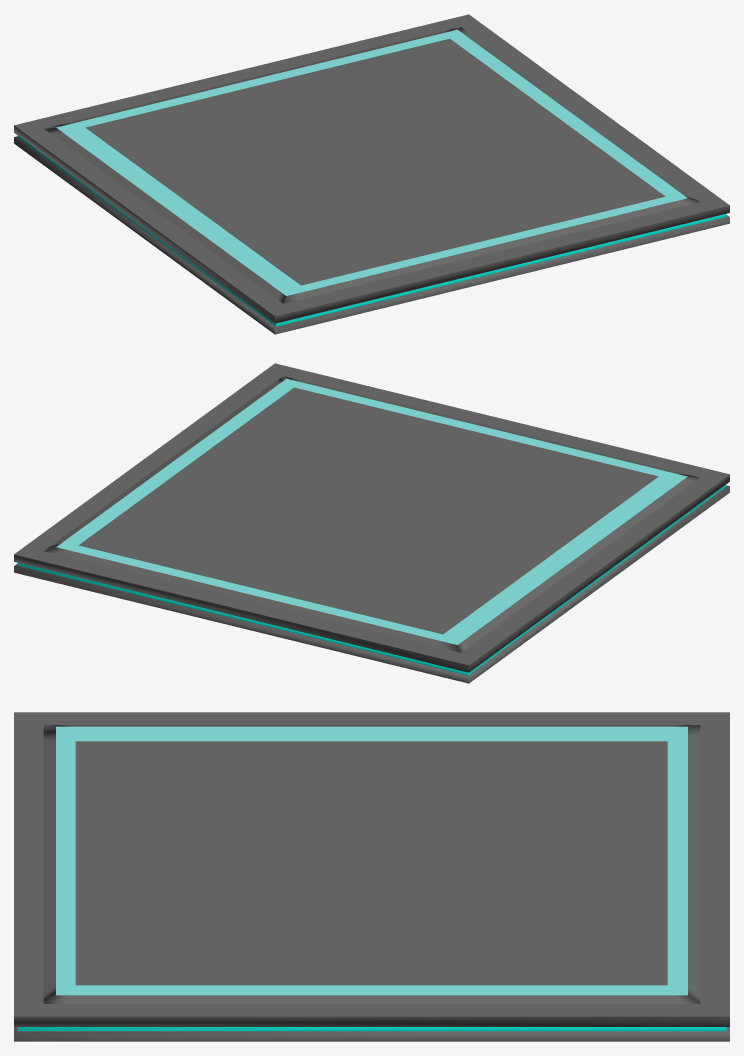
3 views of the same model, one above another, from view 1: azimuth 30°, elevation 25°; view 2: azimuth 150°, elevation 25°; view 3: azimuth 270°, elevation 25° (orthographic). The views are drawn at different scales.
Visible parts, largest first — view 1: pCube6, pCube2, pCube3; view 2: pCube6, pCube2, pCube3; view 3: pCube6, pCube2, pCube3.
Boxes of the visible parts, bbox=[...] form: pCube6: bbox=[44, 27, 699, 303]; pCube2: bbox=[14, 14, 729, 334]; pCube3: bbox=[17, 136, 726, 326]; pCube6: bbox=[44, 376, 699, 652]; pCube2: bbox=[14, 363, 729, 683]; pCube3: bbox=[17, 485, 726, 675]; pCube6: bbox=[43, 725, 700, 1003]; pCube2: bbox=[14, 712, 729, 1041]; pCube3: bbox=[17, 1027, 726, 1031].
Bounding box in the file's own units: 10 × 0.4353 × 9.94.
